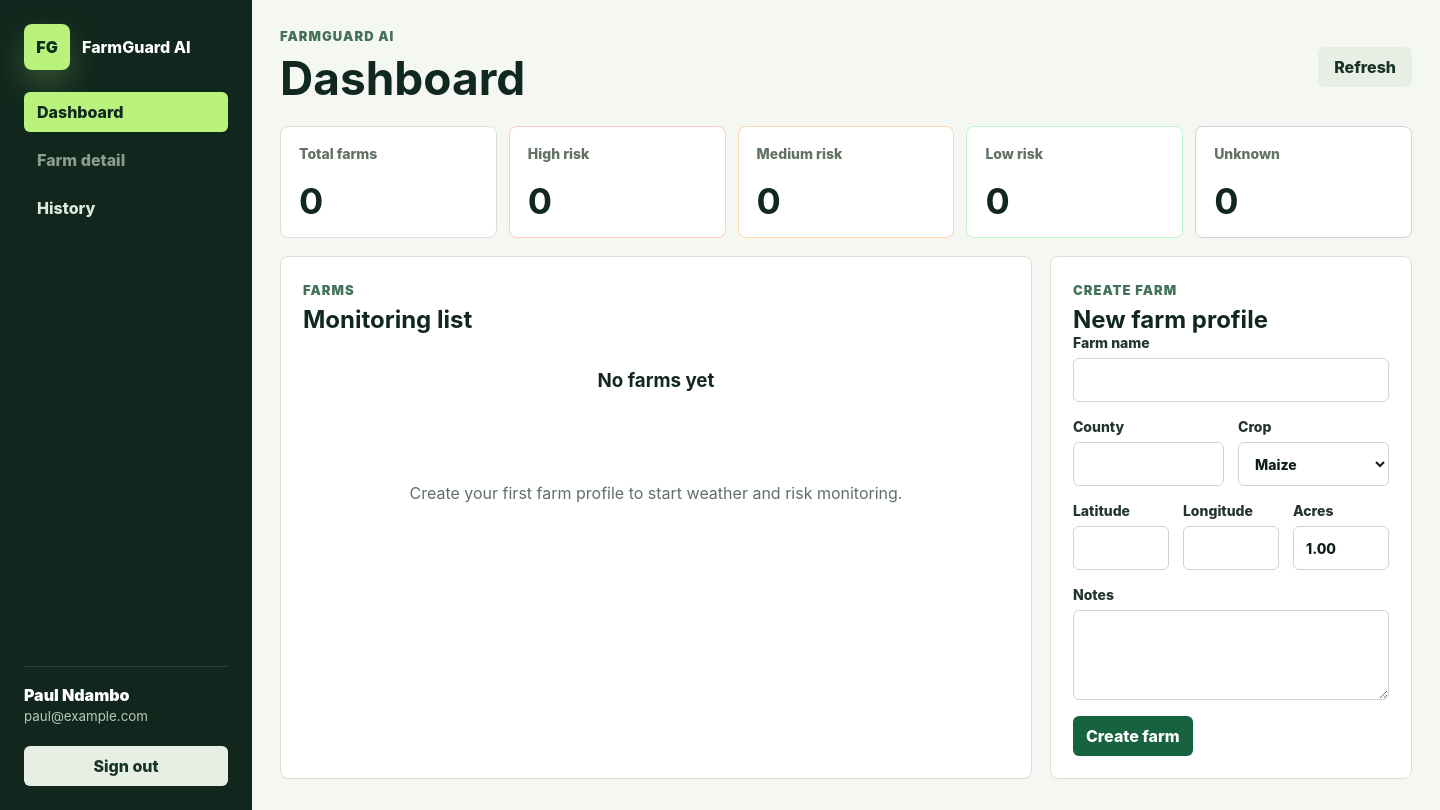
Scenario: Farm workflows › creates a farm from the dashboard form
Expected: the heading "Dashboard" is shown, x1=280 y1=50 x2=525 y2=106
Type "Paul's Maize Farm" into the field labelled "Farm name" at (1231, 380), box x1=1073 y1=358 x2=1389 y2=402
Type "Bomet" into the field labelled "County" at (1148, 464), box x1=1073 y1=442 x2=1224 y2=486
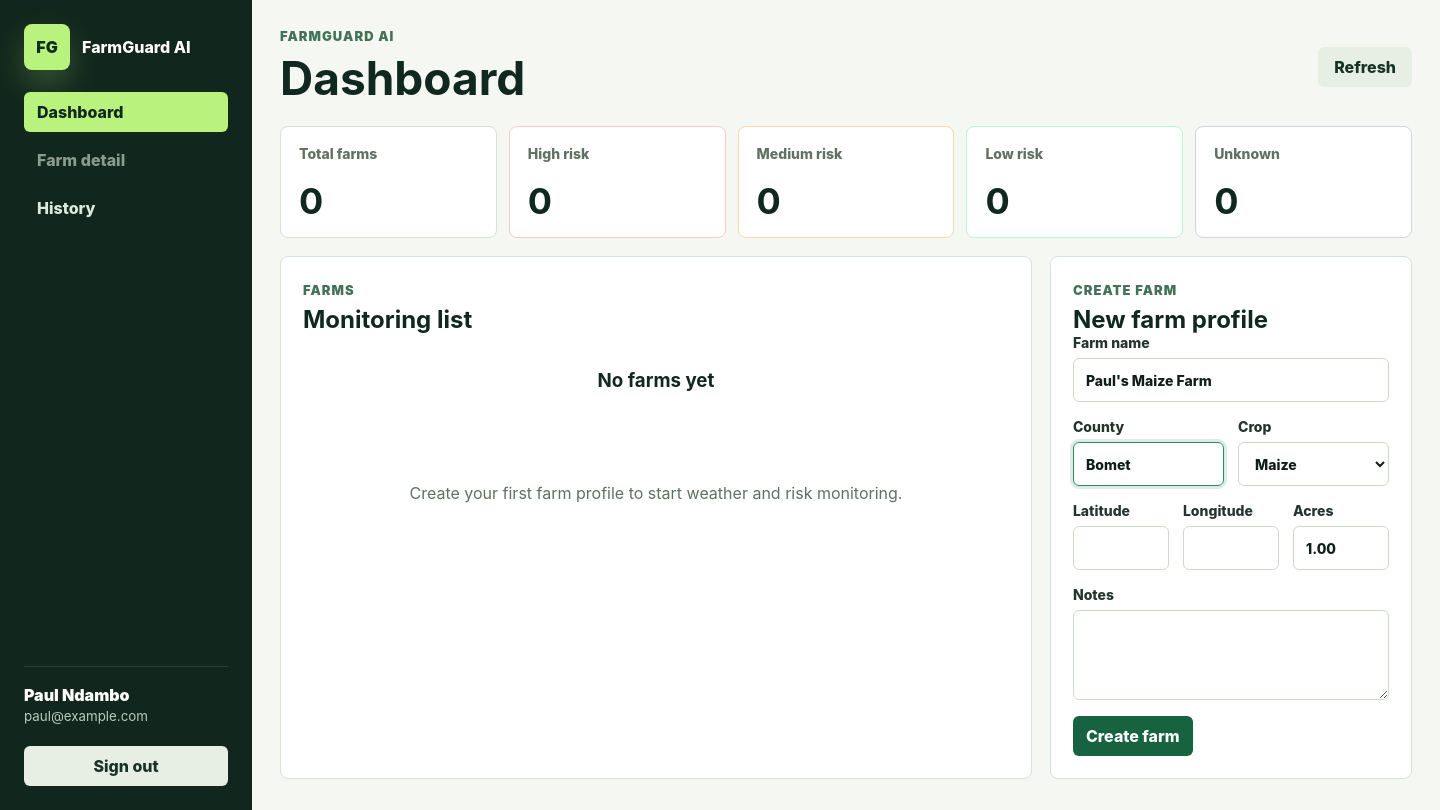
Type "-0.7812" into the number field labelled "Latitude" at (1121, 548), box x1=1073 y1=526 x2=1169 y2=570
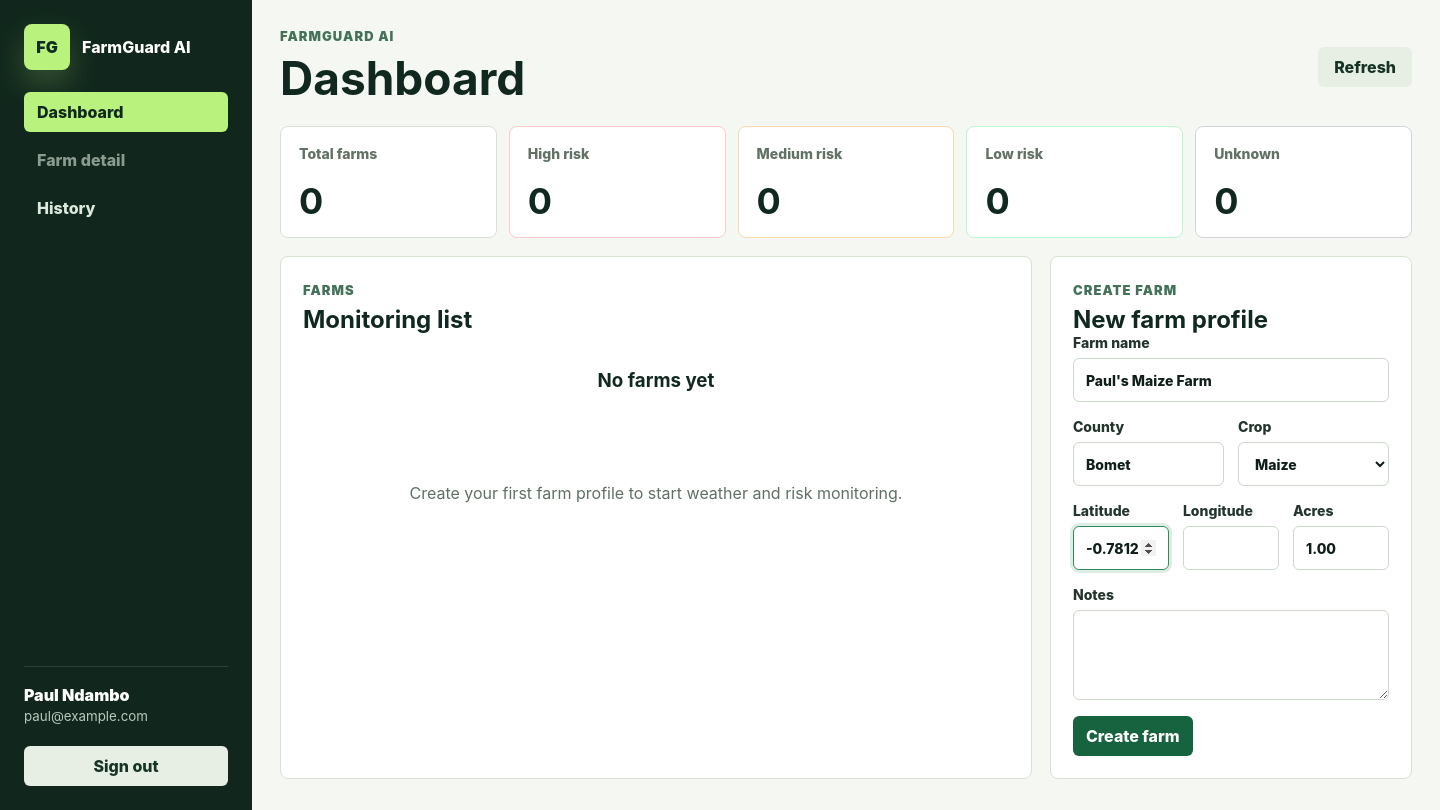
Type "35.3416" into the number field labelled "Longitude" at (1231, 548), box x1=1183 y1=526 x2=1279 y2=570
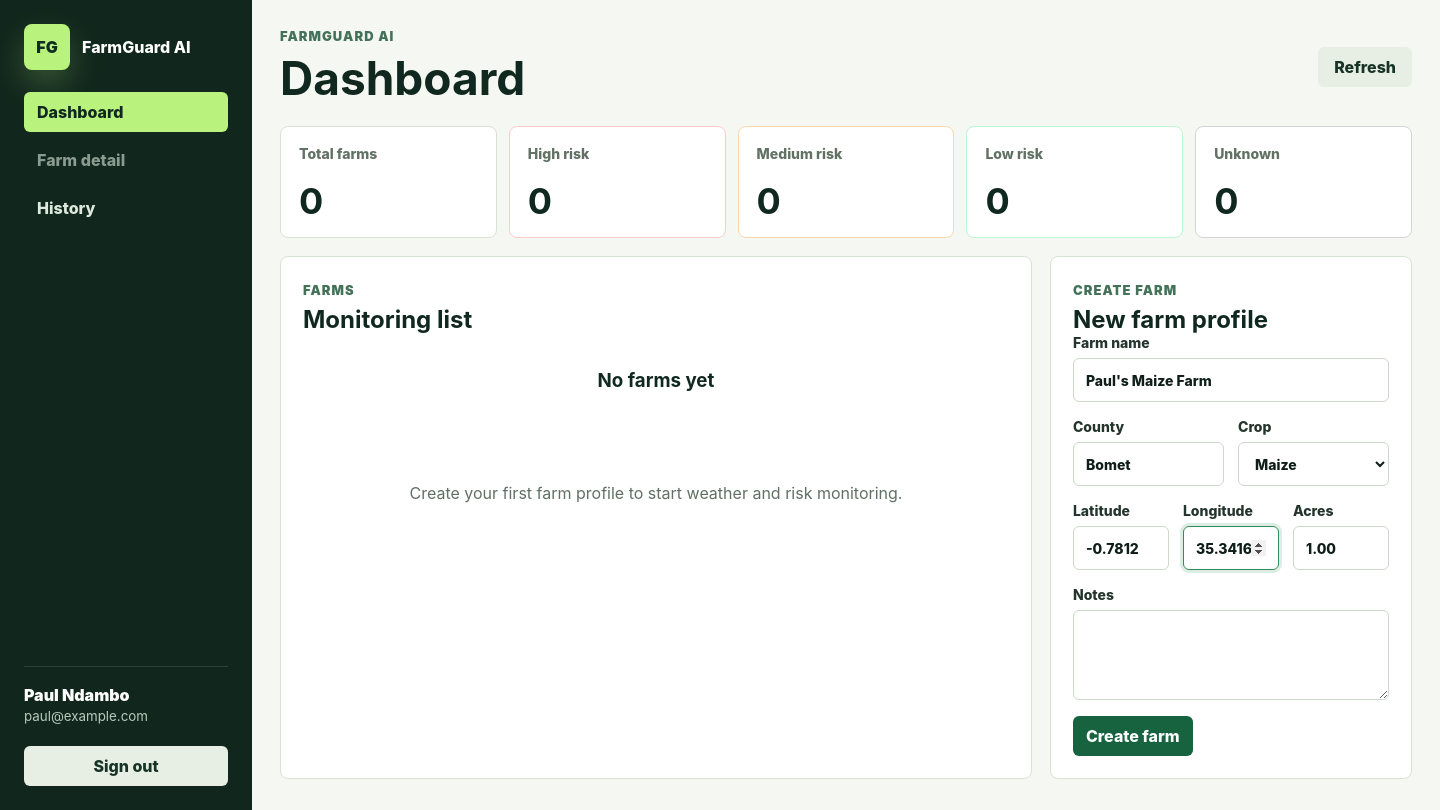
Replace the text in the number field labelled "Acres" with "30" at (1341, 548), box x1=1293 y1=526 x2=1389 y2=570
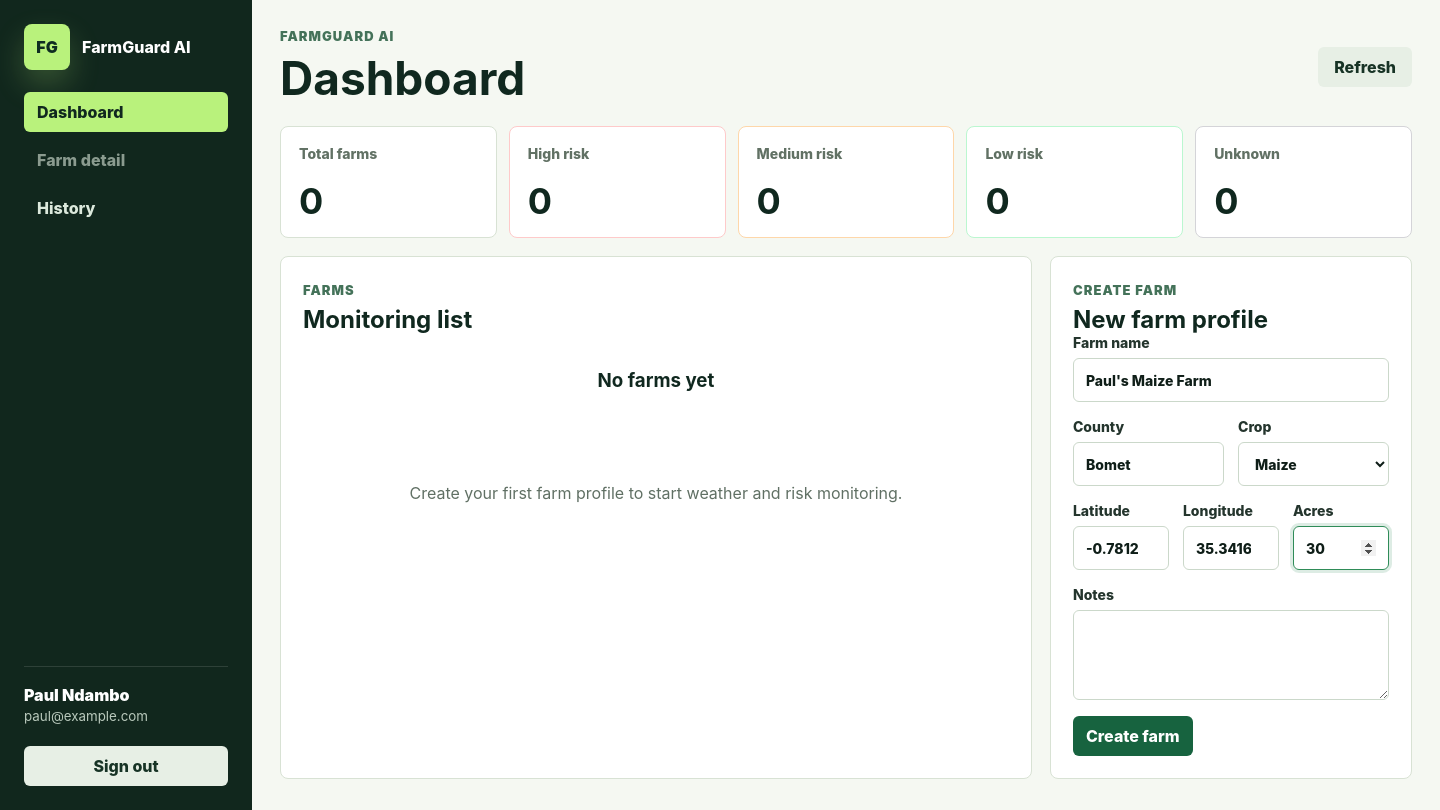
Type "Tea and maize near a river valley" into the text box labelled "Notes" at (1231, 655), box x1=1073 y1=610 x2=1389 y2=700
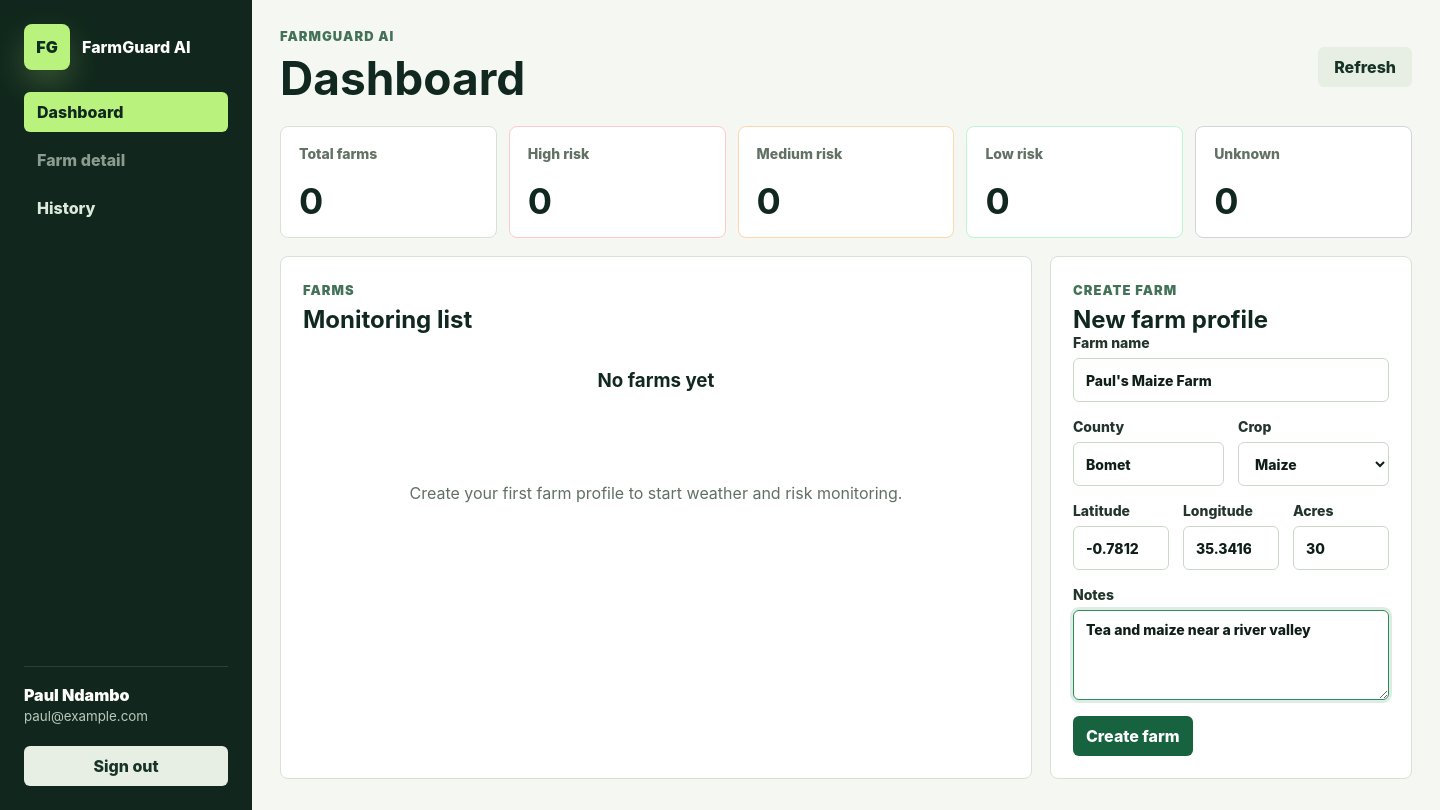
Click the button "Create farm" at (1133, 736), box x1=1073 y1=716 x2=1193 y2=756
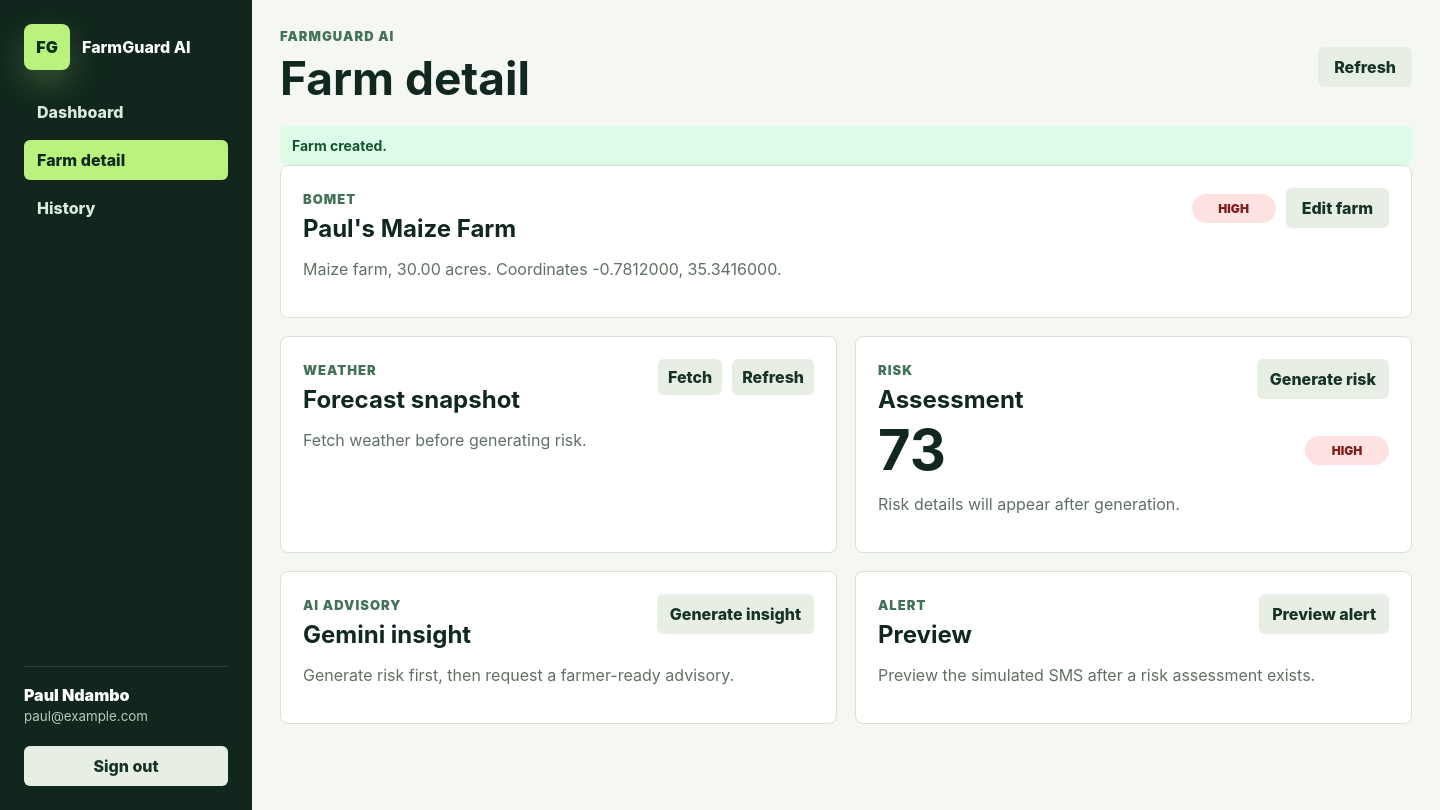
Expected: the heading "Farm detail" is shown, x1=280 y1=50 x2=530 y2=106
Expected: the heading "Paul's Maize Farm" is shown, x1=303 y1=214 x2=516 y2=243
